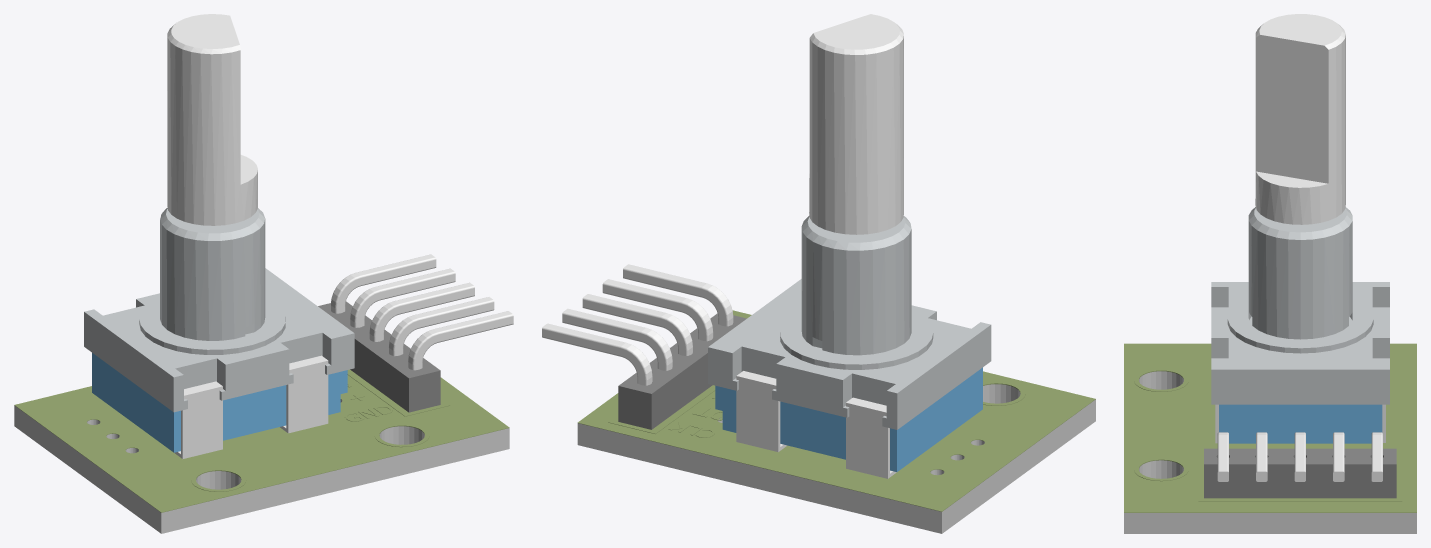
The model's file is rotary_encoder.dae.
The picture shows the model from 3 angles, left to right: view 1: azimuth 30°, elevation 25°; view 2: azimuth 150°, elevation 25°; view 3: azimuth 270°, elevation 25°; orthographic projection. The views are drawn at different scales.
Visible parts, largest first — view 1: node59; view 2: node59; view 3: node59.
Boxes of the visible parts, bbox=[...] form: node59: bbox=[14, 14, 513, 533]; node59: bbox=[542, 14, 1095, 533]; node59: bbox=[1124, 14, 1416, 533].
Size of the model in its own units: 0.0303 by 0.0193 by 0.0301.
